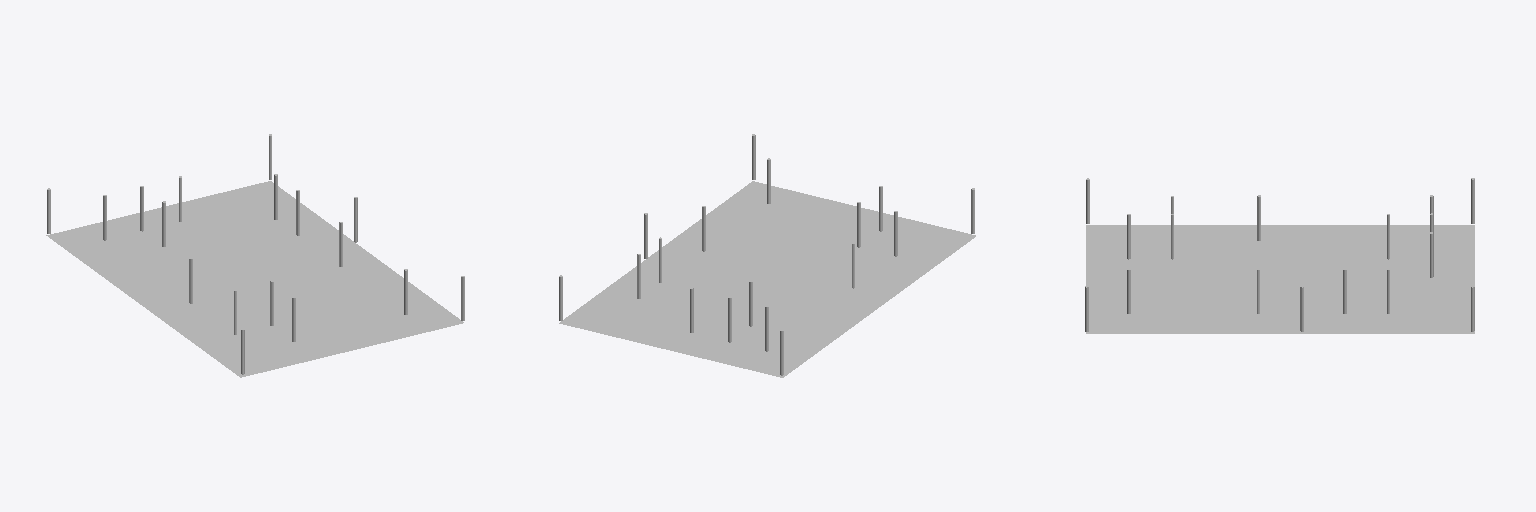
File: Project2.obj
The picture shows the model from 3 angles: view 1: azimuth 30°, elevation 25°; view 2: azimuth 150°, elevation 25°; view 3: azimuth 270°, elevation 25°; orthographic projection.
Parts seen in each view (by area): view 1: Plane.003_Plane.004; view 2: Plane.003_Plane.004; view 3: Plane.003_Plane.004.
Boxes of the visible parts, x1,y1,x2,y2 form: Plane.003_Plane.004: [46, 134, 464, 377]; Plane.003_Plane.004: [559, 134, 975, 377]; Plane.003_Plane.004: [1085, 178, 1474, 333].
Bounding box in the file's own units: 12.01 × 2.39 × 18.04.